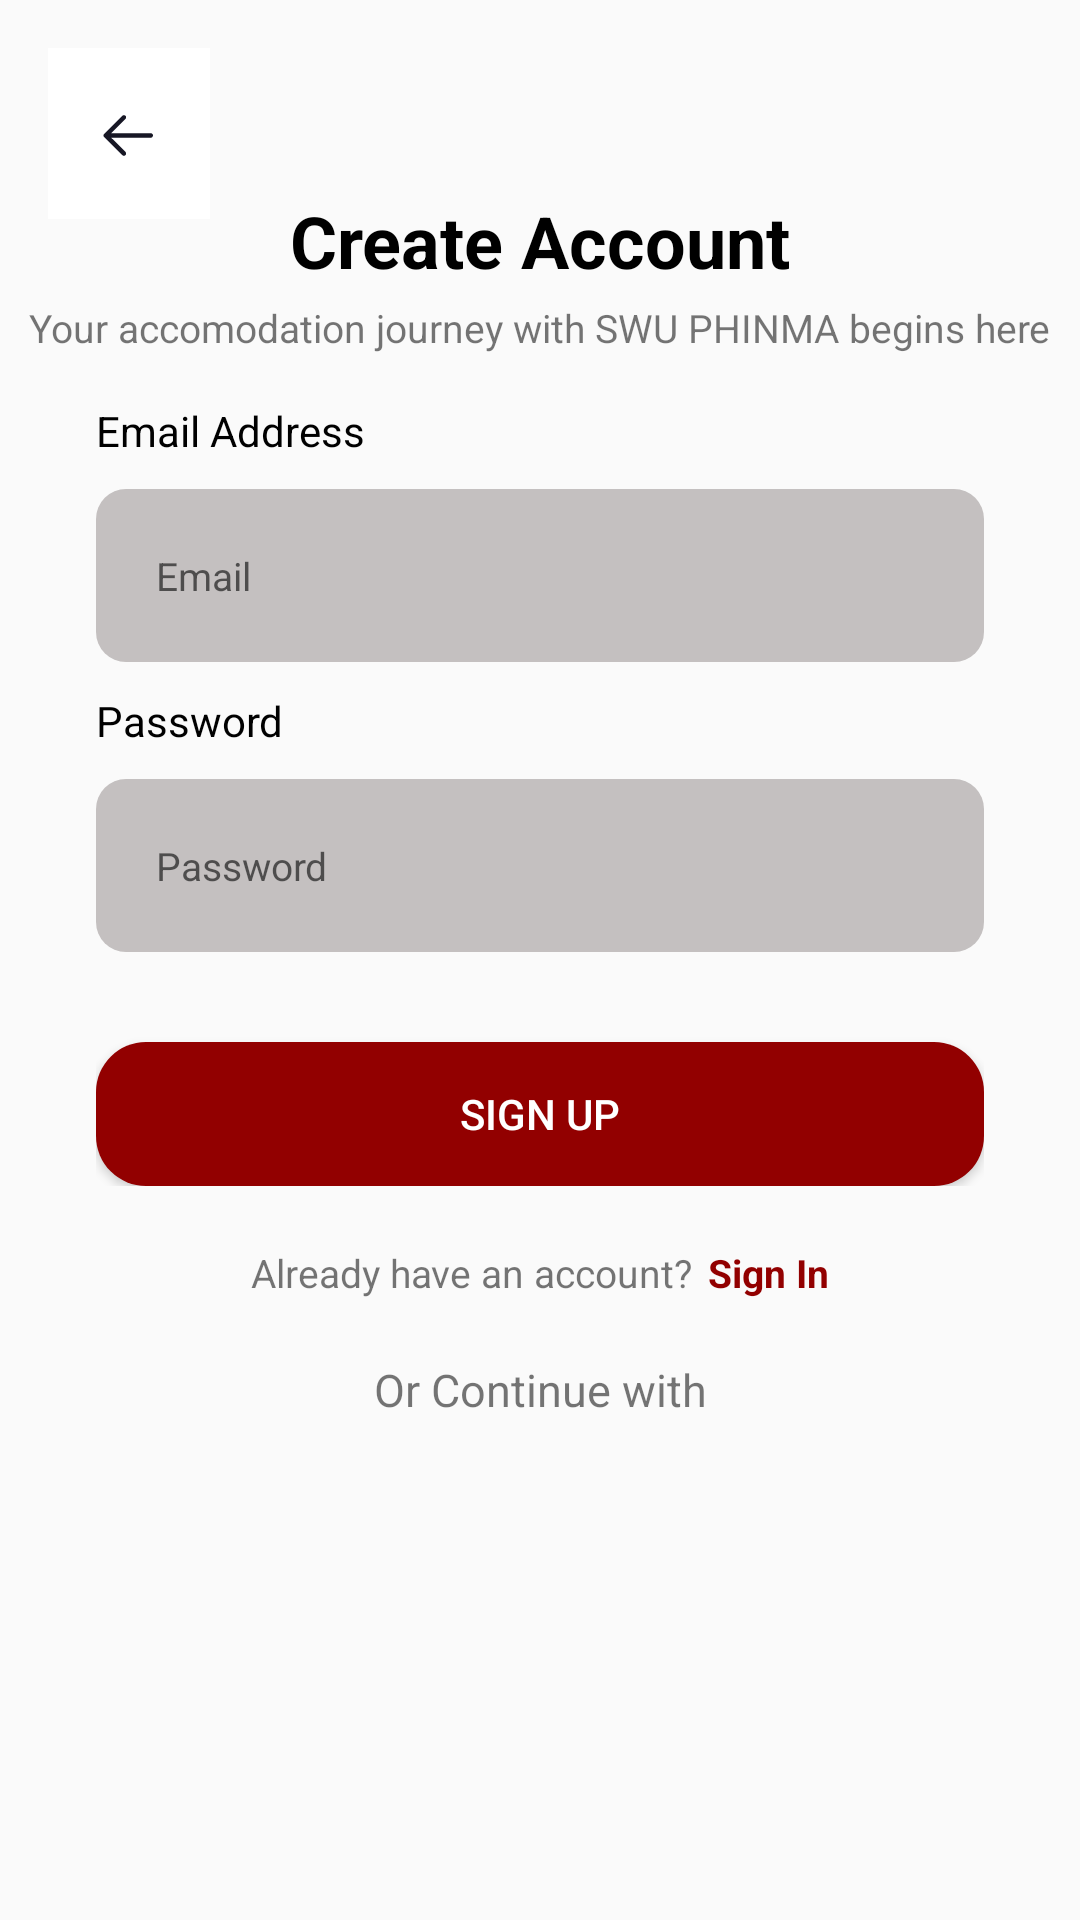

Icons on this 1080*1920 Android screen, each with its box as box=[x1, y1, x2, y2]:
Go back: box=[103, 115, 153, 156]
